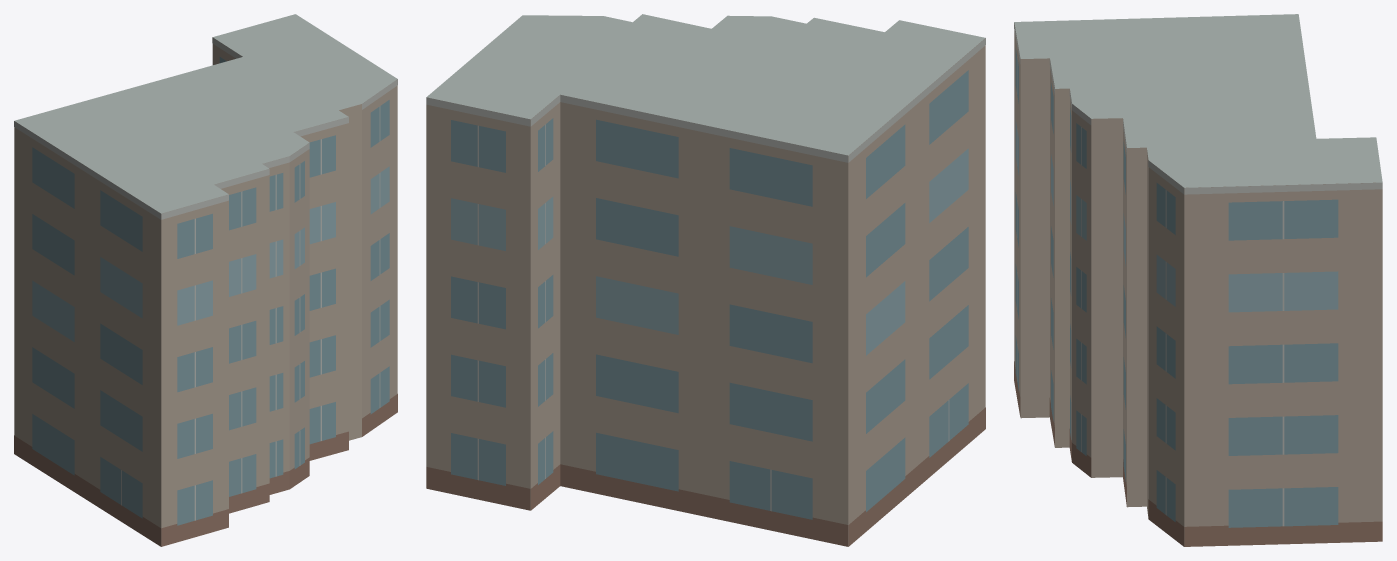
The model's file is survey-upis-32671197.glb.
3 renders of one model, left to right at view 1: azimuth 30°, elevation 25°; view 2: azimuth 150°, elevation 25°; view 3: azimuth 270°, elevation 25°, orthographic. The views are drawn at different scales.
Parts seen in each view (by area): view 1: survey-upis-32671197.tmp; view 2: survey-upis-32671197.tmp; view 3: survey-upis-32671197.tmp.
Part boxes in pixels (<box>): survey-upis-32671197.tmp: <box>14,14,397,546</box>; survey-upis-32671197.tmp: <box>426,14,985,546</box>; survey-upis-32671197.tmp: <box>1014,14,1382,546</box>.
Bounding box in the file's own units: 13.51 × 13 × 12.1.
